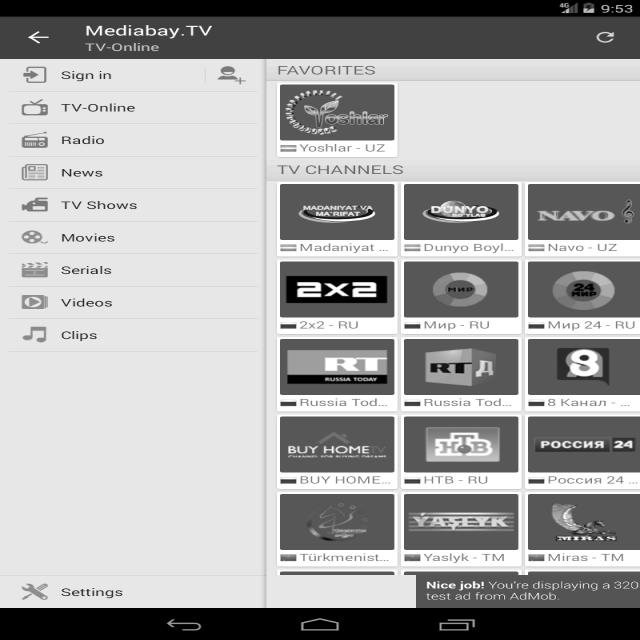ImageButton: (16, 24, 61, 51), (591, 27, 622, 47)
ImageView: (277, 81, 395, 140), (281, 183, 396, 239), (280, 415, 395, 471), (402, 415, 516, 469), (210, 61, 252, 87), (16, 159, 53, 184), (16, 578, 54, 602), (18, 94, 54, 118), (18, 226, 54, 248), (15, 291, 52, 311), (526, 319, 547, 331), (524, 242, 546, 252), (402, 552, 423, 560)
TextView: (421, 575, 640, 603), (78, 21, 216, 55), (57, 66, 122, 84), (57, 261, 119, 279), (58, 585, 125, 599), (59, 132, 110, 147), (302, 144, 389, 152)
